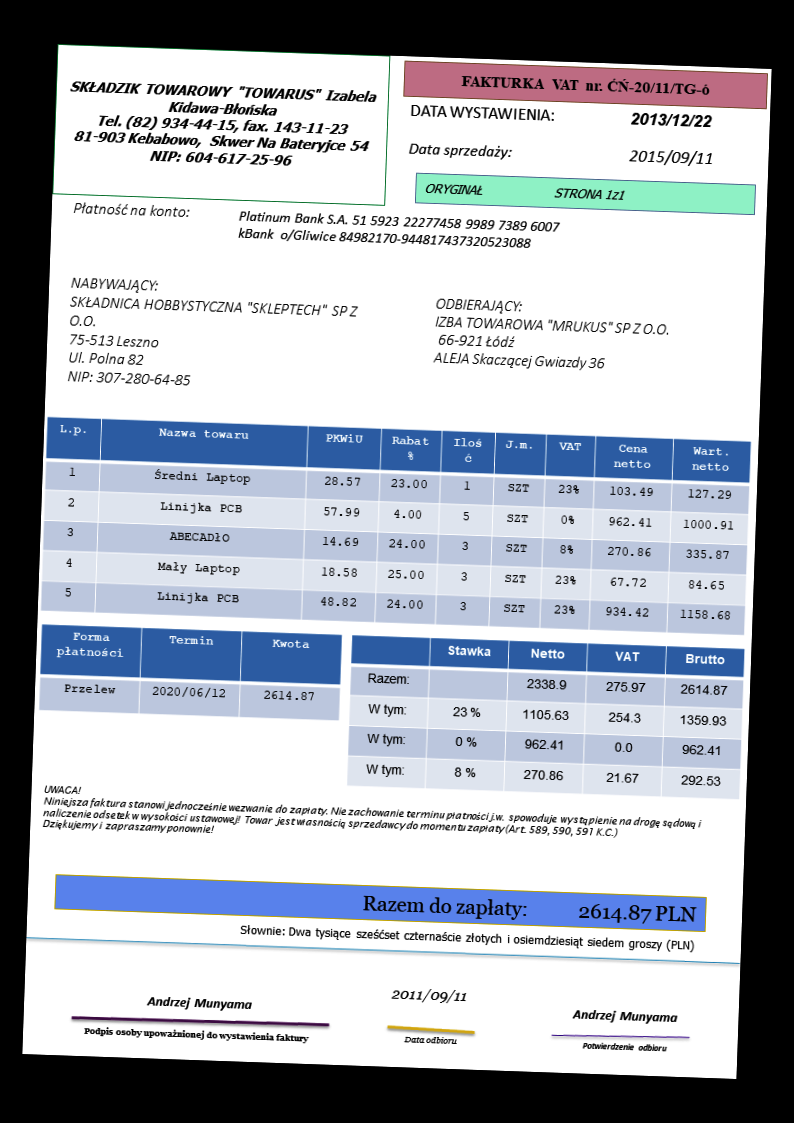Table: (39, 415, 752, 637), (344, 631, 747, 804), (37, 622, 344, 722)
TextBox: (40, 781, 707, 854), (64, 271, 363, 396), (65, 75, 382, 174), (431, 293, 672, 377), (237, 919, 696, 958), (234, 207, 562, 254), (360, 889, 699, 929), (457, 70, 711, 99), (422, 177, 627, 204), (81, 1024, 310, 1045), (406, 98, 554, 126), (406, 137, 514, 163), (70, 198, 191, 221), (142, 993, 258, 1014), (626, 144, 715, 170), (570, 1007, 679, 1027), (627, 108, 714, 132), (387, 984, 469, 1006), (579, 1038, 668, 1055), (401, 1031, 460, 1050)
